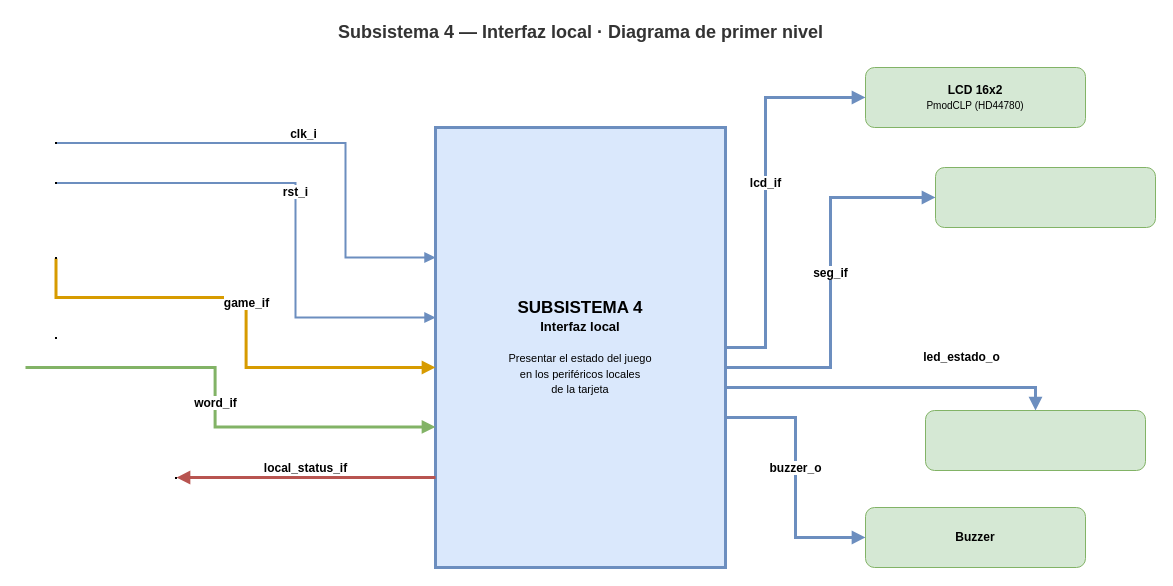
Image size: 1173x586. Some labels were removed from this diagram. Here are the shapes that lost their labels. From the top down, the centre of each, then its label:
pixel 1045 197: Displays 7 segmentos 4 dígitos multiplexados
pixel 1035 440: LED de estado
